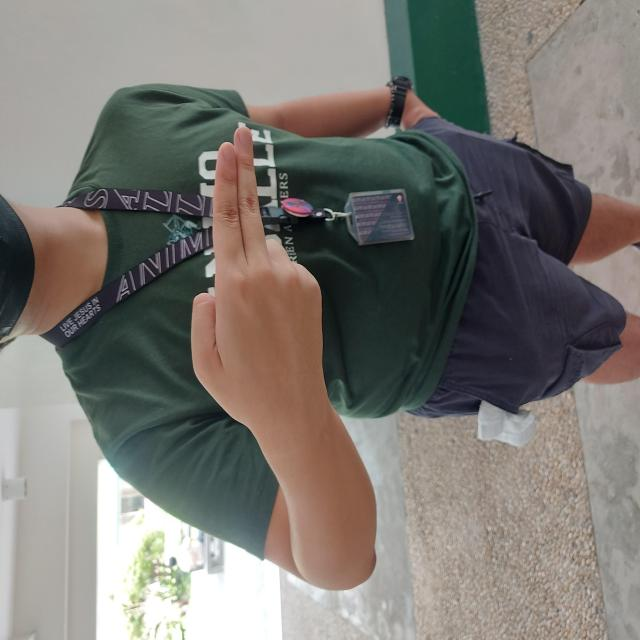H: (214, 188, 515, 326)
